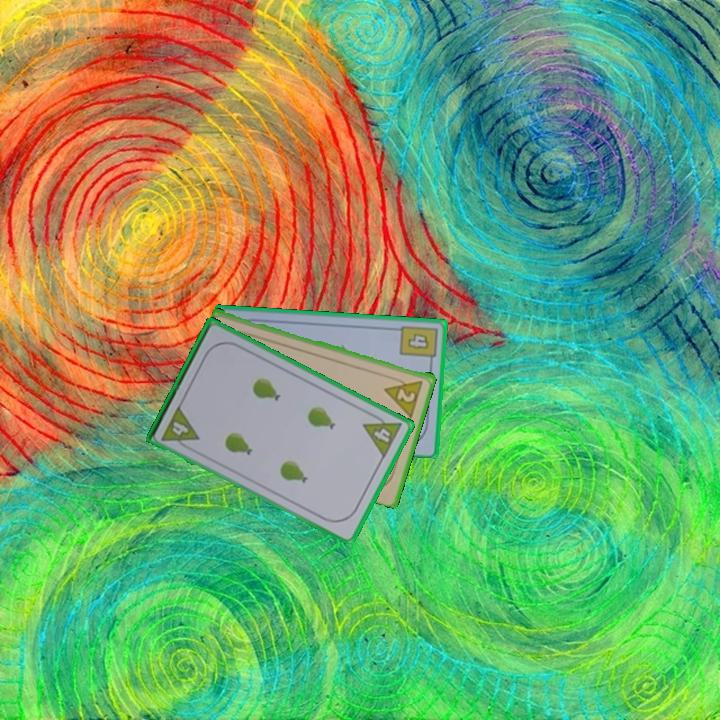2p: (381, 373, 426, 419)
4b: (396, 321, 440, 367)
4p: (359, 408, 405, 461), (158, 402, 202, 453)
